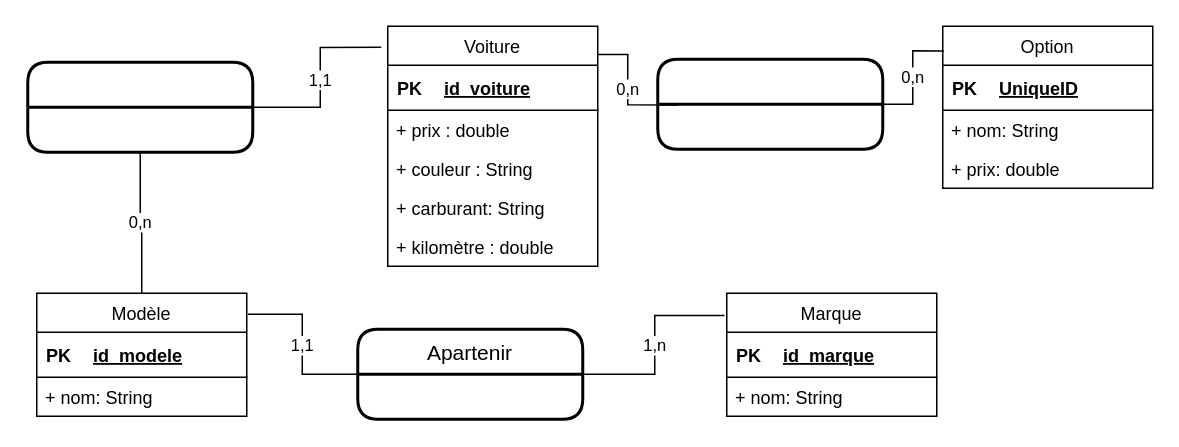
This 1179x447 diagram has some shape labels left out. Here are the shapes that lost their labels. From the top down, the box of each, then its label:
(26, 60, 254, 153): Posséder
(656, 57, 884, 150): Cotenir
